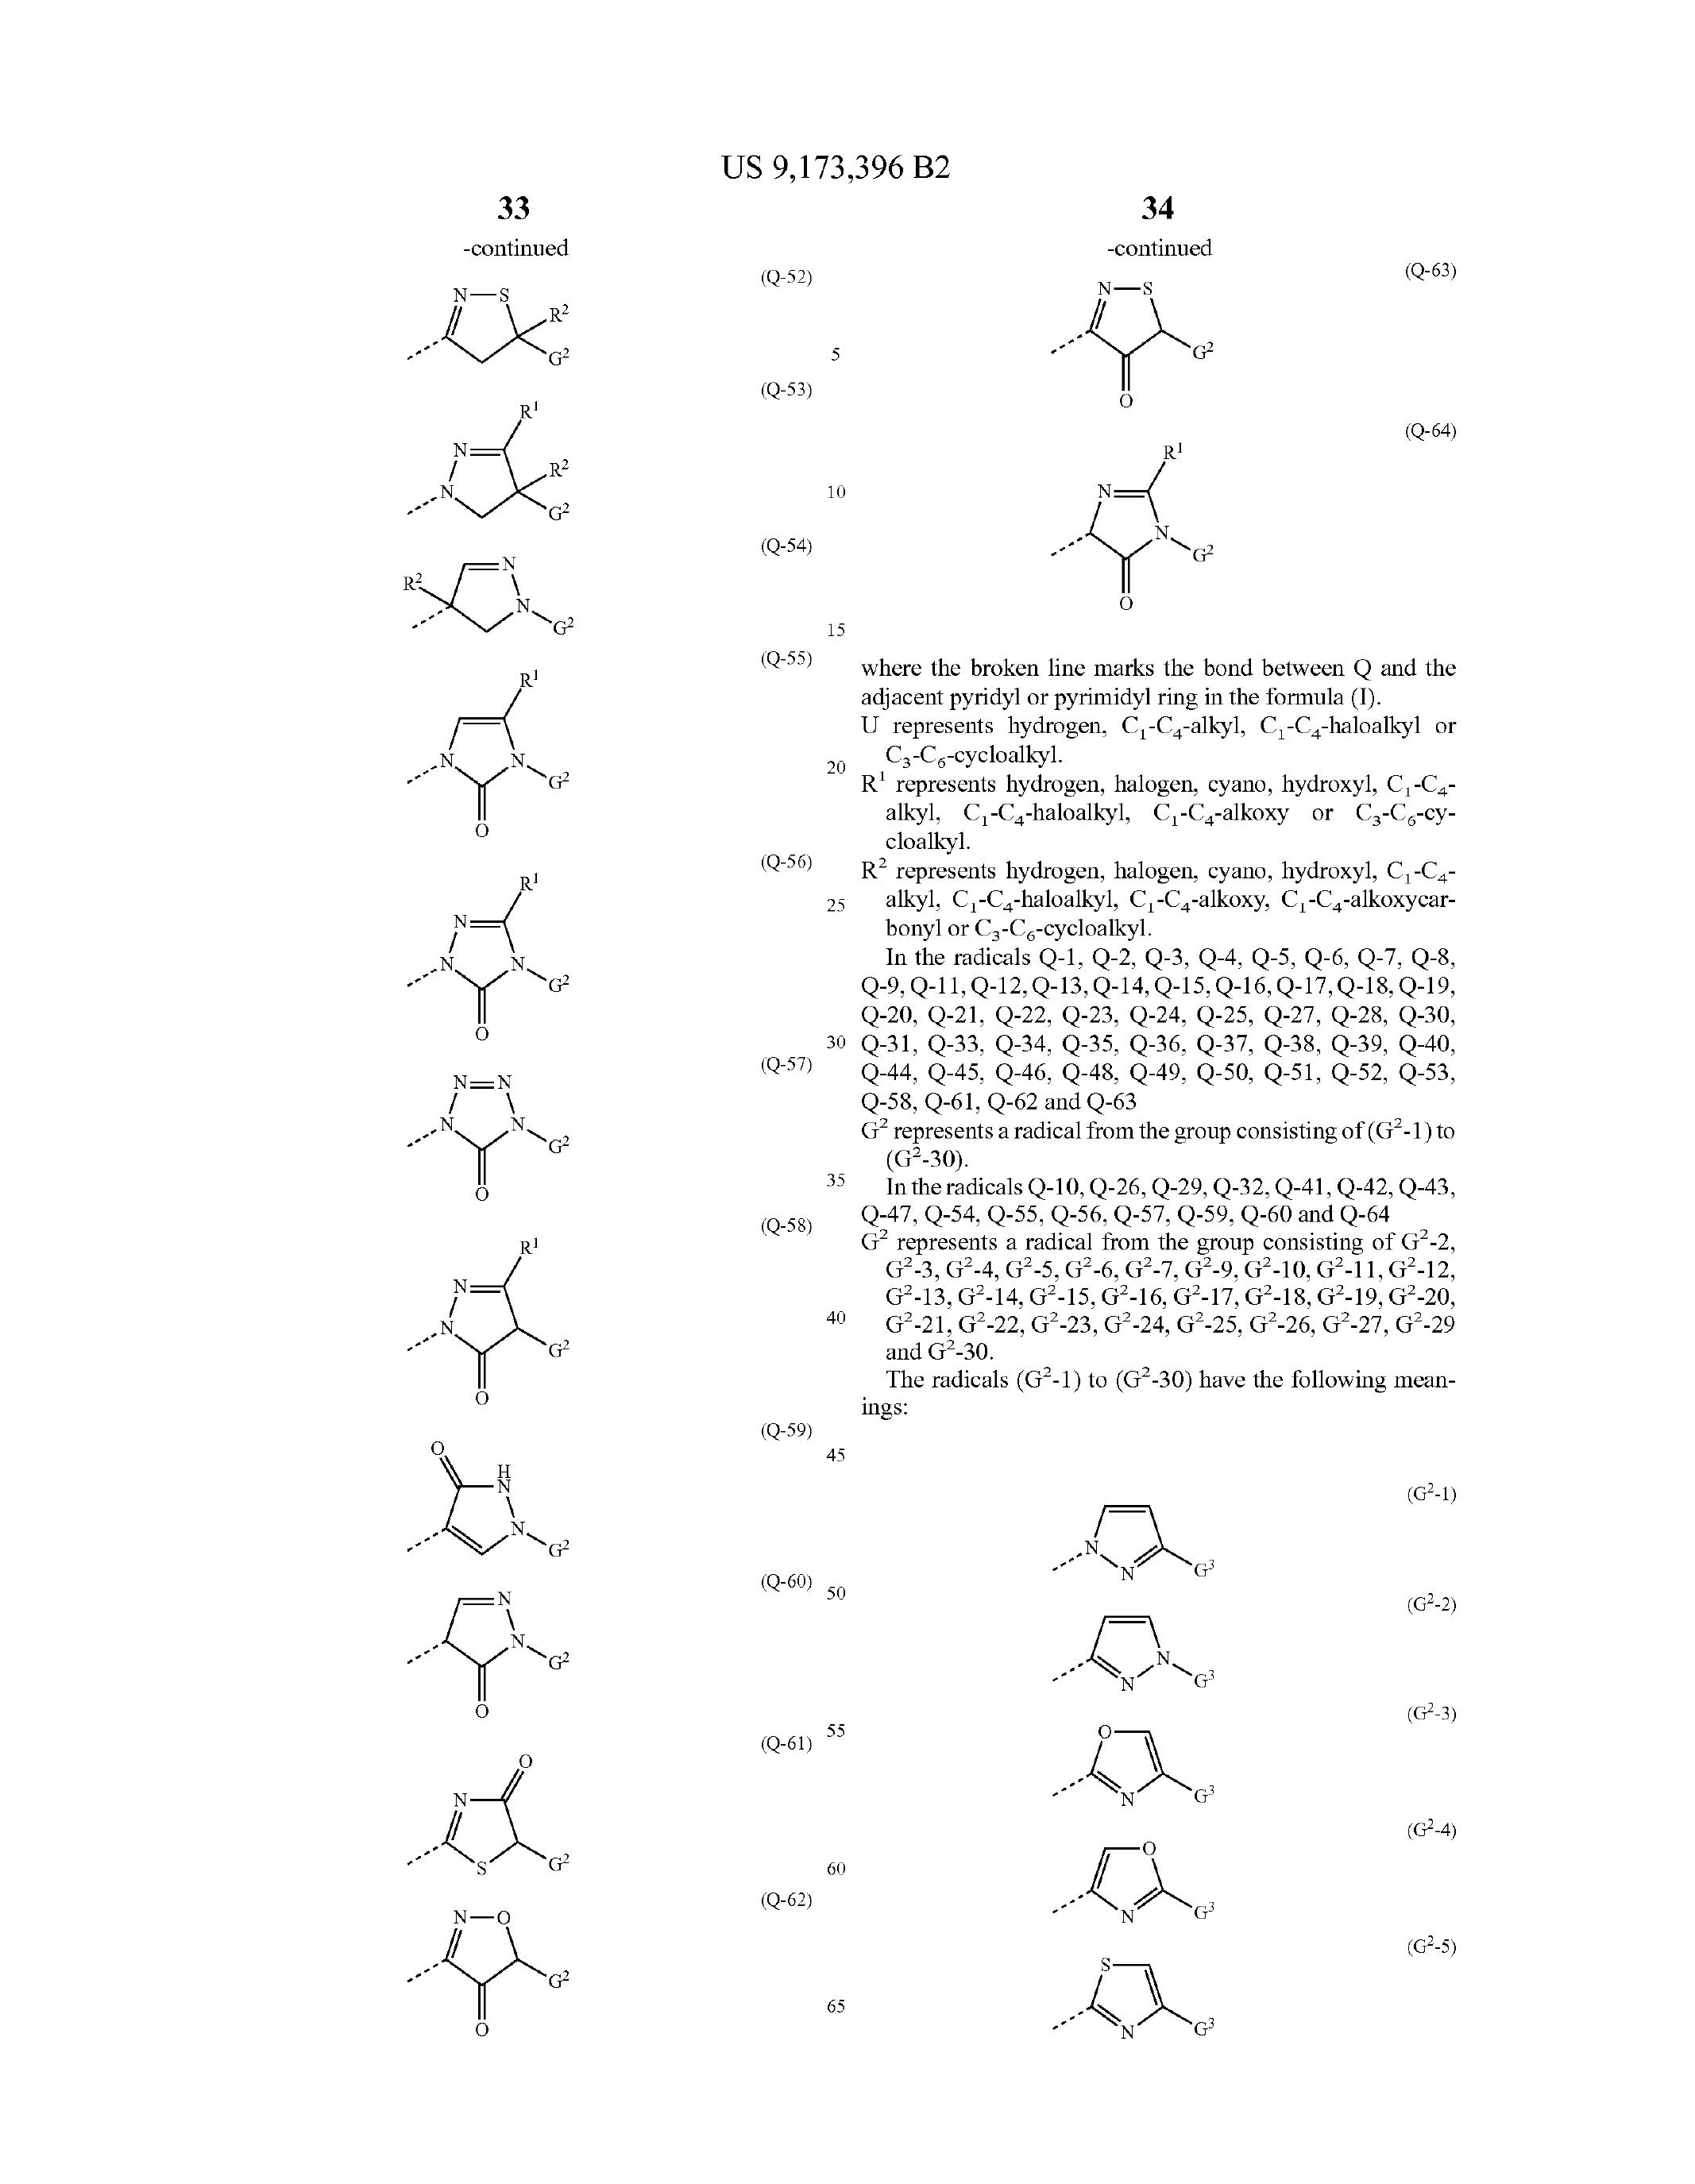intermediates: (1023, 1464, 1287, 2060)
